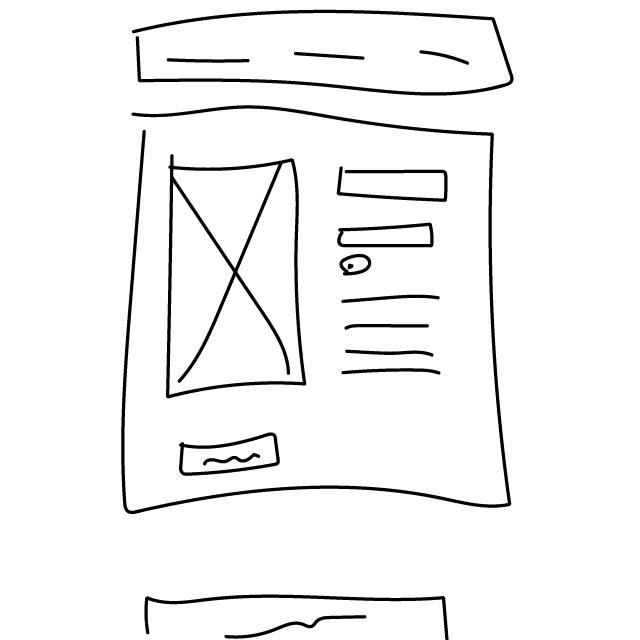button: (178, 431, 283, 480)
checkbox: (339, 254, 376, 277)
container: (111, 103, 532, 532)
footer: (131, 586, 476, 640)
frame: (164, 147, 310, 401)
input: (333, 163, 453, 207), (333, 219, 440, 252)
nav: (131, 8, 519, 100)
text: (337, 290, 452, 386)
